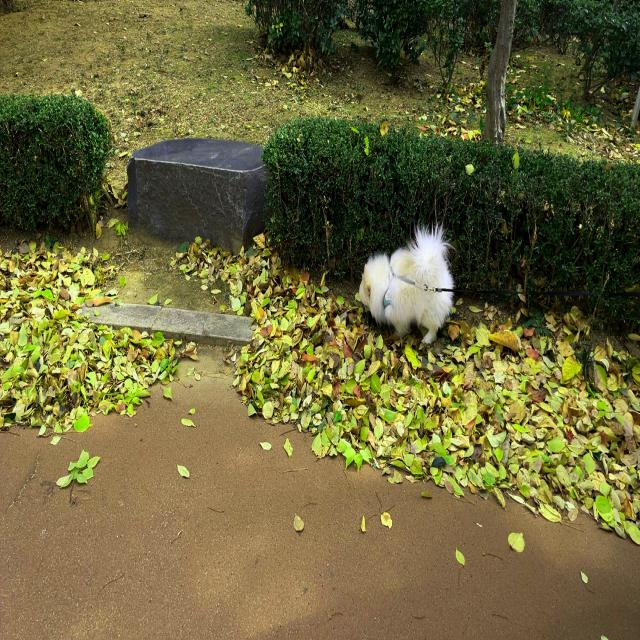Dog: (359, 223, 456, 345)
